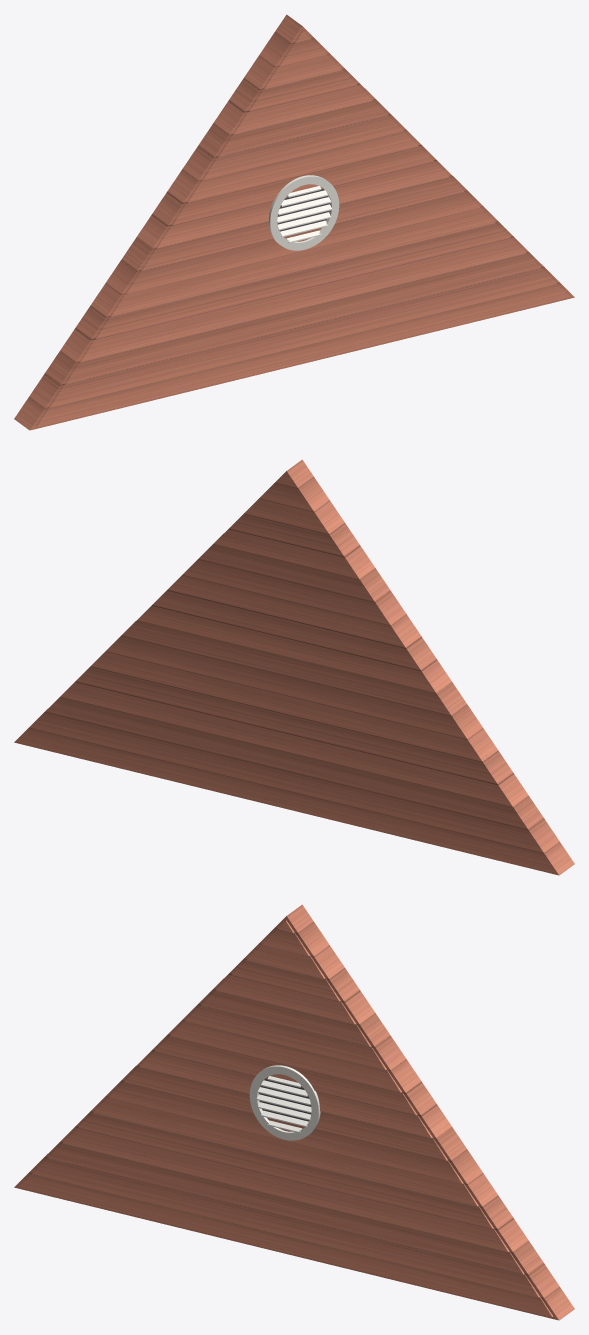
The model's file is gable_back_e.glb.
3 views of the same model, one above another, from view 1: azimuth 30°, elevation 25°; view 2: azimuth 150°, elevation 25°; view 3: azimuth 330°, elevation 25° (orthographic).
Parts seen in each view (by area): view 1: gable_back_e_siding_e, gable_back_e_trim; view 2: gable_back_e_siding_e; view 3: gable_back_e_siding_e, gable_back_e_trim.
Part boxes in pixels (box(x1,y1,x2,y2)): gable_back_e_siding_e: box(14, 14, 574, 430); gable_back_e_trim: box(268, 175, 339, 250); gable_back_e_siding_e: box(14, 459, 574, 875); gable_back_e_siding_e: box(14, 904, 574, 1320); gable_back_e_trim: box(249, 1065, 320, 1140).
Bounding box in the file's own units: 6 × 3.56 × 0.35.
Materials: 3 (1 with a texture image).
